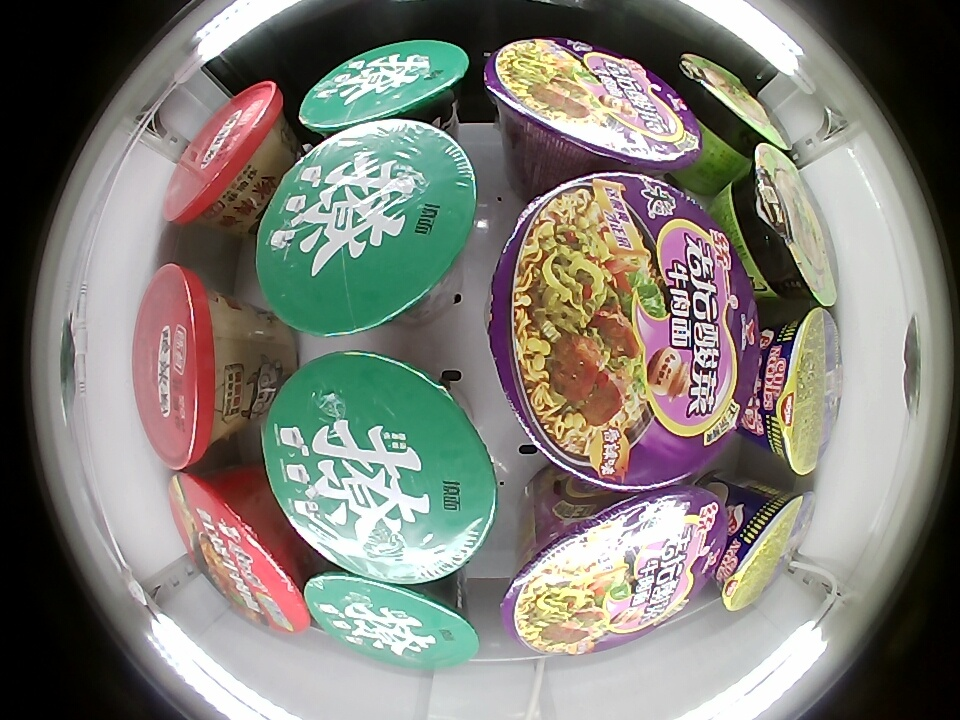heweidao: (754, 307, 841, 476), (716, 491, 818, 611)
hongshaoniurou: (170, 467, 312, 632)
laotansuancai: (489, 172, 762, 490), (499, 484, 731, 656), (484, 38, 704, 179)
liaomian: (259, 349, 499, 587), (254, 120, 476, 337), (302, 567, 478, 666), (299, 39, 471, 140)
suanlafen: (133, 262, 253, 466), (162, 80, 286, 228)
tangdaren: (730, 144, 839, 305), (677, 52, 793, 164)
